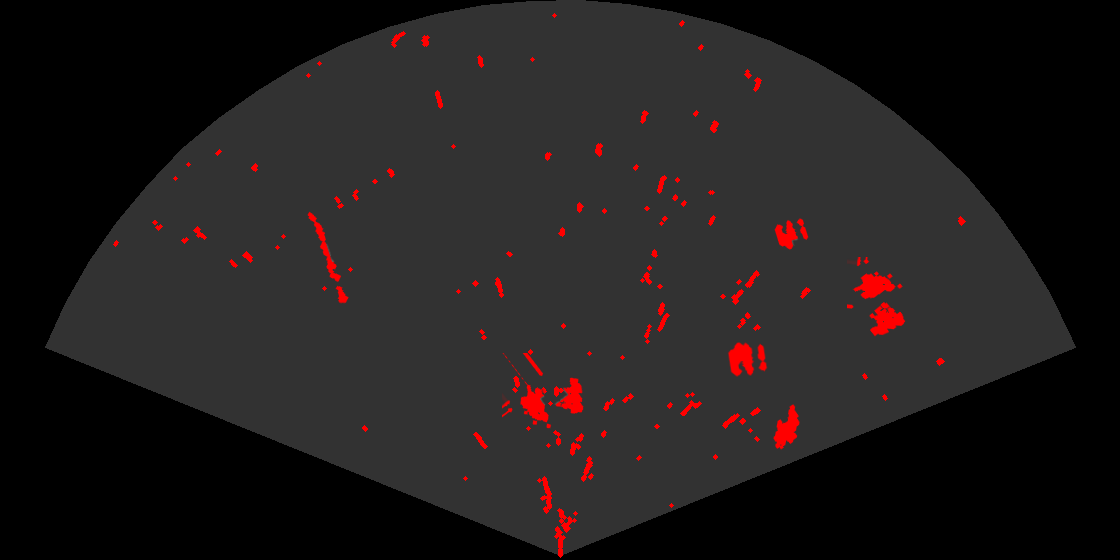AUV: (772, 403, 801, 451)
ball: (726, 341, 769, 378), (773, 217, 810, 251)
cage: (502, 353, 585, 430), (847, 257, 907, 338)
chain: (306, 210, 350, 306)
